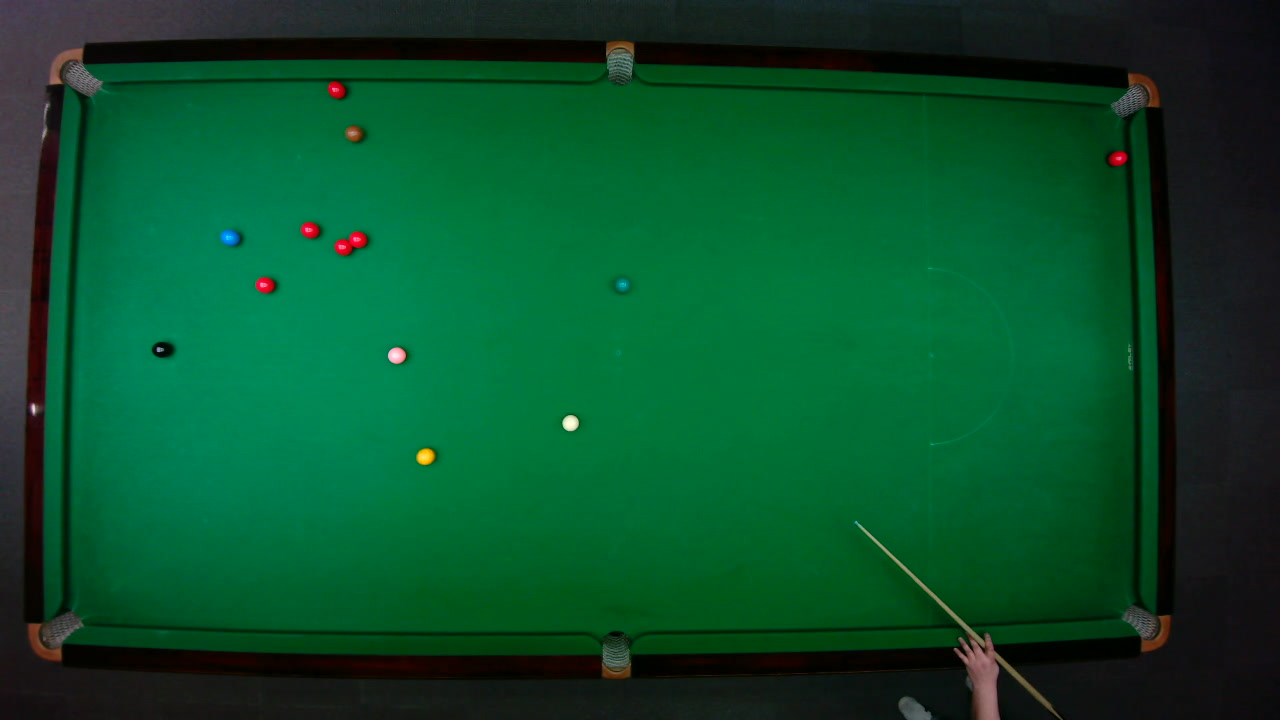bag: (25, 609, 84, 661), (47, 47, 102, 97), (1119, 603, 1171, 651), (1108, 71, 1160, 118), (600, 629, 630, 679), (605, 39, 633, 86)
black: (150, 339, 172, 358)
blue: (218, 228, 240, 246)
brown: (343, 124, 364, 142)
cue: (852, 519, 1065, 719)
green: (613, 276, 630, 293)
pink: (386, 345, 406, 364)
red: (332, 236, 354, 256), (298, 220, 320, 239), (347, 229, 368, 248), (253, 275, 275, 293), (1106, 149, 1129, 166), (326, 79, 346, 98)
white: (560, 413, 579, 431)
yellow: (415, 447, 436, 465)
zone: (927, 265, 1013, 445)
